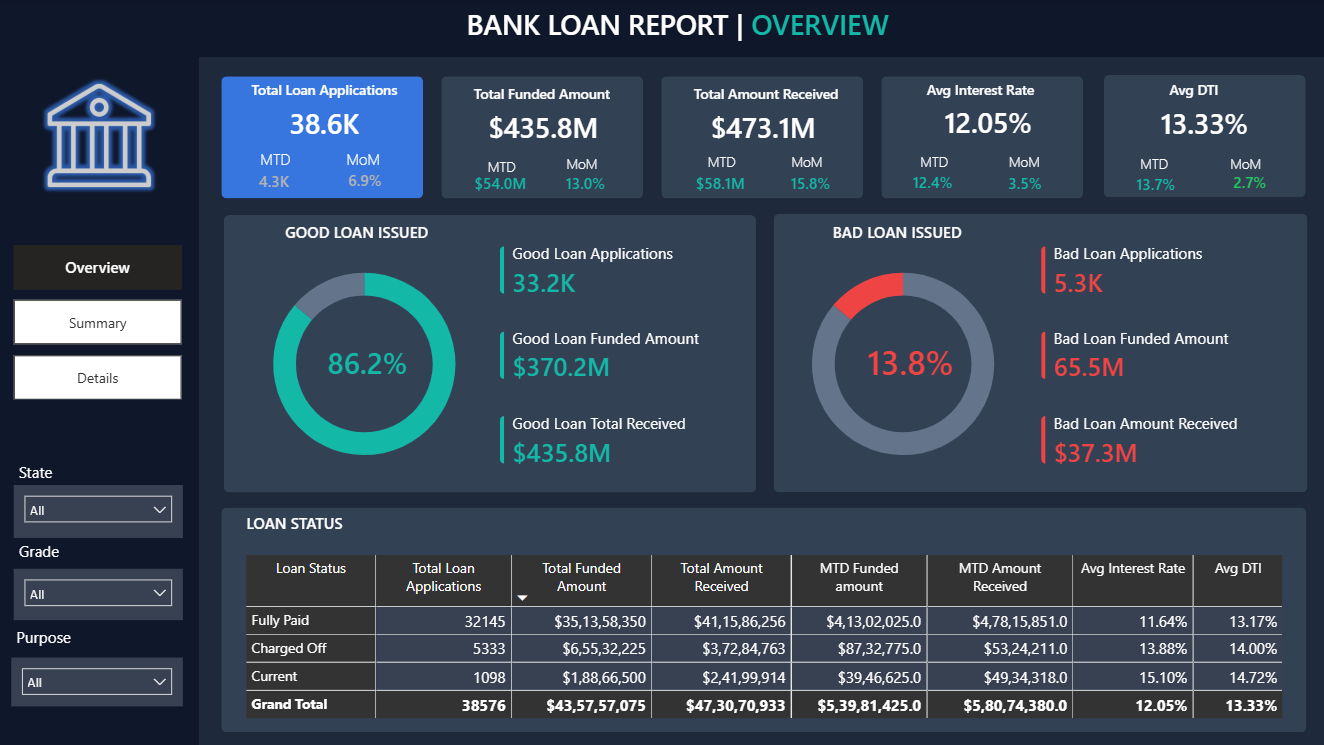

The page's visual inventory and layout, read from the dashboard file:
{"tool":"powerbi","page":{"name":"Overview","canvas":[1280,720],"ordinal":0},"visuals":[{"type":"shape","box":[216,207.5,513.9,267.8],"z":0},{"type":"shape","box":[214.1,74.1,194.9,118],"z":1000},{"type":"shape","box":[0,54.3,192.1,665.5],"z":2000},{"type":"shape","box":[0,0,1280.3,55],"z":3000},{"type":"textbox","box":[418.5,0,470.7,56.3],"z":4000},{"type":"cardVisual","title":"MOM","fields":{"Data":["bank_loan_data.MoM Funded Amount"]},"box":[513.6,149,102.9,52.1],"z":4000,"group":"g2"},{"type":"cardVisual","title":"MOM","fields":{"Data":["bank_loan_data.MoM Amount Recieved"]},"box":[725.4,149,112.5,52.1],"z":4000,"group":"g3"},{"type":"cardVisual","title":"MOM","fields":{"Data":["bank_loan_data.MoM Avg DTI"]},"box":[1155.6,129.3,101.5,91.9],"z":5000,"group":"g5"},{"type":"textbox","box":[245.6,138.6,49.4,52.1],"z":5000},{"type":"cardVisual","title":"MOM","fields":{"Data":["bank_loan_data.MoM Loan Applications"]},"box":[296.3,148,111.1,50.8],"z":5000,"group":"g1"},{"type":"cardVisual","title":"MOM","fields":{"Data":["bank_loan_data.MoM Avg Int"]},"box":[934.7,150.4,111.1,50.8],"z":5000,"group":"g4"},{"type":"cardVisual","fields":{"Data":["bank_loan_data.Avg Int Rate"]},"box":[857.2,86.4,194.9,59],"z":6000,"group":"g4"},{"type":"cardVisual","fields":{"Data":["bank_loan_data.Total Loan Applications"]},"box":[215.4,87.8,194.9,59],"z":6000,"group":"g1"},{"type":"cardVisual","fields":{"Data":["bank_loan_data.Avg DTI"]},"box":[1064.8,87.8,194.9,59],"z":6000,"group":"g5"},{"type":"cardVisual","fields":{"Data":["bank_loan_data.Total Funded Amount"]},"box":[426.8,90.6,194.9,59],"z":6000,"group":"g2"},{"type":"cardVisual","fields":{"Data":["bank_loan_data.Total Amount Recieved"]},"box":[639.1,90.6,194.9,59],"z":6000,"group":"g3"},{"type":"textbox","box":[329.3,138.6,56.3,38.4],"z":6000},{"type":"group","id":"g1","title":"Group 1","box":[215.4,72.7,194.9,127.6],"z":7000},{"type":"cardVisual","title":"MTD","fields":{"Data":["bank_loan_data.MTD Loan Applications"]},"box":[215.5,145.9,97.4,54.9],"z":7000,"group":"g1"},{"type":"cardVisual","title":"MTD","fields":{"Data":["bank_loan_data.Mtd Avg Int"]},"box":[836.5,147.7,129,52.1],"z":7000,"group":"g4"},{"type":"cardVisual","title":"MTD","fields":{"Data":["bank_loan_data.Mtd Avg DTI"]},"box":[1066.4,148.5,98.8,57.6],"z":7000,"group":"g5"},{"type":"cardVisual","title":"MTD","fields":{"Data":["bank_loan_data.MTD todal funded amount"]},"box":[423,149,119.4,52.1],"z":7000,"group":"g2"},{"type":"cardVisual","title":"MTD","fields":{"Data":["bank_loan_data.MTD Amount Recieved"]},"box":[635.3,149,119.4,52.1],"z":7000,"group":"g3"},{"type":"textbox","box":[871.5,72.2,170.2,35.7],"z":8000,"group":"g4"},{"type":"textbox","box":[237.4,72.7,170.2,35.7],"z":8000,"group":"g1"},{"type":"textbox","box":[1086.8,72.7,170.2,35.7],"z":8000,"group":"g5"},{"type":"shape","box":[426.1,74.1,194.9,118],"z":8000},{"type":"textbox","box":[448.7,75.5,170.2,35.7],"z":8000,"group":"g2"},{"type":"textbox","box":[661,75.5,170.2,35.7],"z":8000,"group":"g3"},{"type":"group","id":"g2","title":"Group 1","box":[423,75.5,198.6,125.6],"z":9000},{"type":"textbox","box":[270.3,208.6,170.2,35.7],"z":10000},{"type":"shape","box":[638.1,74.1,194.9,118],"z":11000},{"type":"shape","box":[850.1,74.1,194.9,118],"z":12000},{"type":"shape","box":[1064.8,72.7,194.9,118],"z":13000},{"type":"textbox","box":[408.9,244.3,194.9,9.6],"z":14000},{"type":"textbox","box":[1182.9,144.1,54.9,34.3],"z":15000},{"type":"textbox","box":[542,144.1,52.1,41.2],"z":16000},{"type":"textbox","box":[465.2,146.8,57.6,27.4],"z":17000},{"type":"group","id":"g3","title":"Group 1","box":[635.3,75.5,202.6,125.6],"z":18000},{"type":"textbox","box":[879.6,142.7,94.7,31.6],"z":19000},{"type":"textbox","box":[671,142.7,83.7,27.4],"z":20000},{"type":"textbox","box":[754.7,142.7,83.7,31.6],"z":21000},{"type":"group","id":"g4","title":"Group 1","box":[836.5,72.2,215.6,129],"z":22000},{"type":"textbox","box":[968.8,142.7,75.5,38.4],"z":23000},{"type":"group","id":"g5","title":"Group 1","box":[1064.8,72.7,194.9,148.6],"z":24000},{"type":"textbox","box":[1095,144.1,50.8,41.2],"z":25000},{"type":"shape","box":[746.8,206.3,515.2,269],"z":26000},{"type":"donutChart","fields":{"Category":["bank_loan_data.Good vs Bad Loan"],"Y":["bank_loan_data.Total Loan Applications"]},"box":[226.4,236,250,230],"z":27000},{"type":"donutChart","fields":{"Category":["bank_loan_data.Good vs Bad Loan"],"Y":["bank_loan_data.Total Loan Applications"]},"box":[746.5,236,250,230],"z":28000},{"type":"textbox","box":[798.6,208.6,170.2,35.7],"z":29000},{"type":"cardVisual","fields":{"Data":["bank_loan_data.Good Loan %"]},"box":[286.8,318.4,142.7,60.4],"z":30000},{"type":"cardVisual","fields":{"Data":["bank_loan_data.Bad Loan %"]},"box":[808.2,314.2,142.7,67.2],"z":31000},{"type":"shape","box":[213.5,489.8,1047.2,217.2],"z":32000},{"type":"cardVisual","fields":{"Data":["bank_loan_data.Good Loan Applications","bank_loan_data.Good Loan Funded Amount","bank_loan_data.Good Loan Amount Recieved"]},"box":[465.2,220.9,273.1,244.3],"z":33000},{"type":"cardVisual","fields":{"Data":["bank_loan_data.Bad Loan Applications","bank_loan_data.Bad Loan Funded Amount","bank_loan_data.Bad Loan Amount Recieved"]},"box":[988,220.9,273.1,244.3],"z":34000},{"type":"pivotTable","fields":{"Rows":["bank_loan_data.loan_status"],"Values":["bank_loan_data.Total Loan Applications","bank_loan_data.Total Funded Amount","bank_loan_data.Total Amount Recieved","bank_loan_data.MTD todal funded amount","bank_loan_data.MTD Amount Recieved","bank_loan_data.Avg Int Rate","bank_loan_data.Avg DTI"]},"box":[232.8,530.8,1011,176.1],"z":35000},{"type":"textbox","box":[232.8,489.8,170.2,35.7],"z":36000},{"type":"image","box":[35,74.8,121.9,112.2],"z":37000},{"type":"slicer","fields":{"Values":["bank_loan_data.address_state"]},"box":[13.3,468.2,162.9,51],"z":37000,"group":"g6"},{"type":"pageNavigator","box":[13.3,236.5,162.9,150.8],"z":38000},{"type":"slicer","fields":{"Values":["bank_loan_data.grade"]},"box":[13.3,549.4,162.9,49.9],"z":38000,"group":"g6"},{"type":"group","id":"g6","title":"Group 2","box":[10.9,440.4,165.3,241.3],"z":39000},{"type":"slicer","fields":{"Values":["bank_loan_data.purpose"]},"box":[10.9,634.1,165.3,47.6],"z":39000,"group":"g6"},{"type":"textbox","box":[13.3,440.4,71.2,37.1],"z":40000,"group":"g6"},{"type":"textbox","box":[10.9,599.3,71.2,34.8],"z":41000,"group":"g6"},{"type":"textbox","box":[13.3,517,71.2,37.1],"z":42000,"group":"g6"}]}

Visuals, with their boxes in screenshot pixels (x1, y1, x2, y2), scaled from the page's 1280x720 canvas onto the 1324x745 screenshot:
shape: {"x1": 223, "y1": 215, "x2": 755, "y2": 492}
shape: {"x1": 221, "y1": 77, "x2": 423, "y2": 199}
shape: {"x1": 0, "y1": 56, "x2": 199, "y2": 744}
shape: {"x1": 0, "y1": 0, "x2": 1323, "y2": 57}
textbox: {"x1": 433, "y1": 0, "x2": 920, "y2": 58}
"MOM" cardVisual: {"x1": 531, "y1": 154, "x2": 638, "y2": 208}
"MOM" cardVisual: {"x1": 750, "y1": 154, "x2": 867, "y2": 208}
"MOM" cardVisual: {"x1": 1195, "y1": 134, "x2": 1300, "y2": 229}
textbox: {"x1": 254, "y1": 143, "x2": 305, "y2": 197}
"MOM" cardVisual: {"x1": 306, "y1": 153, "x2": 421, "y2": 206}
"MOM" cardVisual: {"x1": 967, "y1": 156, "x2": 1082, "y2": 208}
cardVisual - bank_loan_data.Avg Int Rate: {"x1": 887, "y1": 89, "x2": 1088, "y2": 150}
cardVisual - bank_loan_data.Total Loan Applications: {"x1": 223, "y1": 91, "x2": 424, "y2": 152}
cardVisual - bank_loan_data.Avg DTI: {"x1": 1101, "y1": 91, "x2": 1303, "y2": 152}
cardVisual - bank_loan_data.Total Funded Amount: {"x1": 441, "y1": 94, "x2": 643, "y2": 155}
cardVisual - bank_loan_data.Total Amount Recieved: {"x1": 661, "y1": 94, "x2": 863, "y2": 155}
textbox: {"x1": 341, "y1": 143, "x2": 399, "y2": 183}
"Group 1" group: {"x1": 223, "y1": 75, "x2": 424, "y2": 207}
"MTD" cardVisual: {"x1": 223, "y1": 151, "x2": 324, "y2": 208}
"MTD" cardVisual: {"x1": 865, "y1": 153, "x2": 999, "y2": 207}
"MTD" cardVisual: {"x1": 1103, "y1": 154, "x2": 1205, "y2": 213}
"MTD" cardVisual: {"x1": 438, "y1": 154, "x2": 561, "y2": 208}
"MTD" cardVisual: {"x1": 657, "y1": 154, "x2": 781, "y2": 208}
textbox: {"x1": 901, "y1": 75, "x2": 1078, "y2": 112}
textbox: {"x1": 246, "y1": 75, "x2": 422, "y2": 112}
textbox: {"x1": 1124, "y1": 75, "x2": 1300, "y2": 112}
shape: {"x1": 441, "y1": 77, "x2": 642, "y2": 199}
textbox: {"x1": 464, "y1": 78, "x2": 640, "y2": 115}
textbox: {"x1": 684, "y1": 78, "x2": 860, "y2": 115}
"Group 1" group: {"x1": 438, "y1": 78, "x2": 643, "y2": 208}
textbox: {"x1": 280, "y1": 216, "x2": 456, "y2": 253}
shape: {"x1": 660, "y1": 77, "x2": 862, "y2": 199}
shape: {"x1": 879, "y1": 77, "x2": 1081, "y2": 199}
shape: {"x1": 1101, "y1": 75, "x2": 1303, "y2": 197}
textbox: {"x1": 423, "y1": 253, "x2": 625, "y2": 263}
textbox: {"x1": 1224, "y1": 149, "x2": 1280, "y2": 185}
textbox: {"x1": 561, "y1": 149, "x2": 615, "y2": 192}
textbox: {"x1": 481, "y1": 152, "x2": 541, "y2": 180}
"Group 1" group: {"x1": 657, "y1": 78, "x2": 867, "y2": 208}
textbox: {"x1": 910, "y1": 148, "x2": 1008, "y2": 180}
textbox: {"x1": 694, "y1": 148, "x2": 781, "y2": 176}
textbox: {"x1": 781, "y1": 148, "x2": 867, "y2": 180}
"Group 1" group: {"x1": 865, "y1": 75, "x2": 1088, "y2": 208}
textbox: {"x1": 1002, "y1": 148, "x2": 1080, "y2": 187}
"Group 1" group: {"x1": 1101, "y1": 75, "x2": 1303, "y2": 229}
textbox: {"x1": 1133, "y1": 149, "x2": 1185, "y2": 192}
shape: {"x1": 772, "y1": 213, "x2": 1305, "y2": 492}
donutChart - bank_loan_data.Good vs Bad Loan x bank_loan_data.Total Loan Applications: {"x1": 234, "y1": 244, "x2": 493, "y2": 482}
donutChart - bank_loan_data.Good vs Bad Loan x bank_loan_data.Total Loan Applications: {"x1": 772, "y1": 244, "x2": 1031, "y2": 482}
textbox: {"x1": 826, "y1": 216, "x2": 1002, "y2": 253}
cardVisual - bank_loan_data.Good Loan %: {"x1": 297, "y1": 329, "x2": 444, "y2": 392}
cardVisual - bank_loan_data.Bad Loan %: {"x1": 836, "y1": 325, "x2": 984, "y2": 395}
shape: {"x1": 221, "y1": 507, "x2": 1304, "y2": 732}
cardVisual - bank_loan_data.Good Loan Applications x bank_loan_data.Good Loan Funded Amount: {"x1": 481, "y1": 229, "x2": 764, "y2": 481}
cardVisual - bank_loan_data.Bad Loan Applications x bank_loan_data.Bad Loan Funded Amount: {"x1": 1022, "y1": 229, "x2": 1304, "y2": 481}
pivotTable - bank_loan_data.loan_status x bank_loan_data.Total Loan Applications: {"x1": 241, "y1": 549, "x2": 1287, "y2": 731}
textbox: {"x1": 241, "y1": 507, "x2": 417, "y2": 544}
image: {"x1": 36, "y1": 77, "x2": 162, "y2": 193}
slicer - bank_loan_data.address_state: {"x1": 14, "y1": 484, "x2": 182, "y2": 537}
pageNavigator: {"x1": 14, "y1": 245, "x2": 182, "y2": 401}
slicer - bank_loan_data.grade: {"x1": 14, "y1": 568, "x2": 182, "y2": 620}
"Group 2" group: {"x1": 11, "y1": 456, "x2": 182, "y2": 705}
slicer - bank_loan_data.purpose: {"x1": 11, "y1": 656, "x2": 182, "y2": 705}
textbox: {"x1": 14, "y1": 456, "x2": 87, "y2": 494}
textbox: {"x1": 11, "y1": 620, "x2": 85, "y2": 656}
textbox: {"x1": 14, "y1": 535, "x2": 87, "y2": 573}
